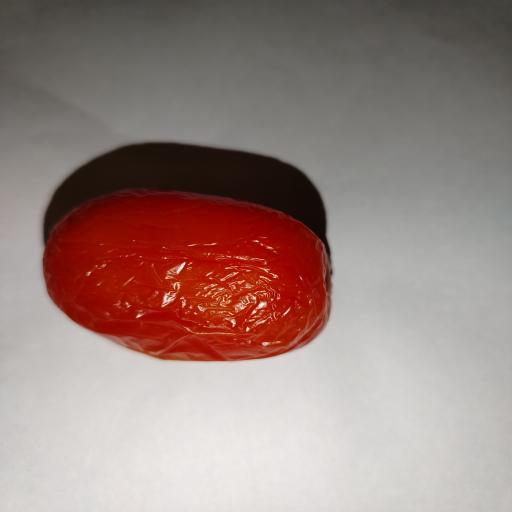spoiled: (44, 190, 329, 361)
